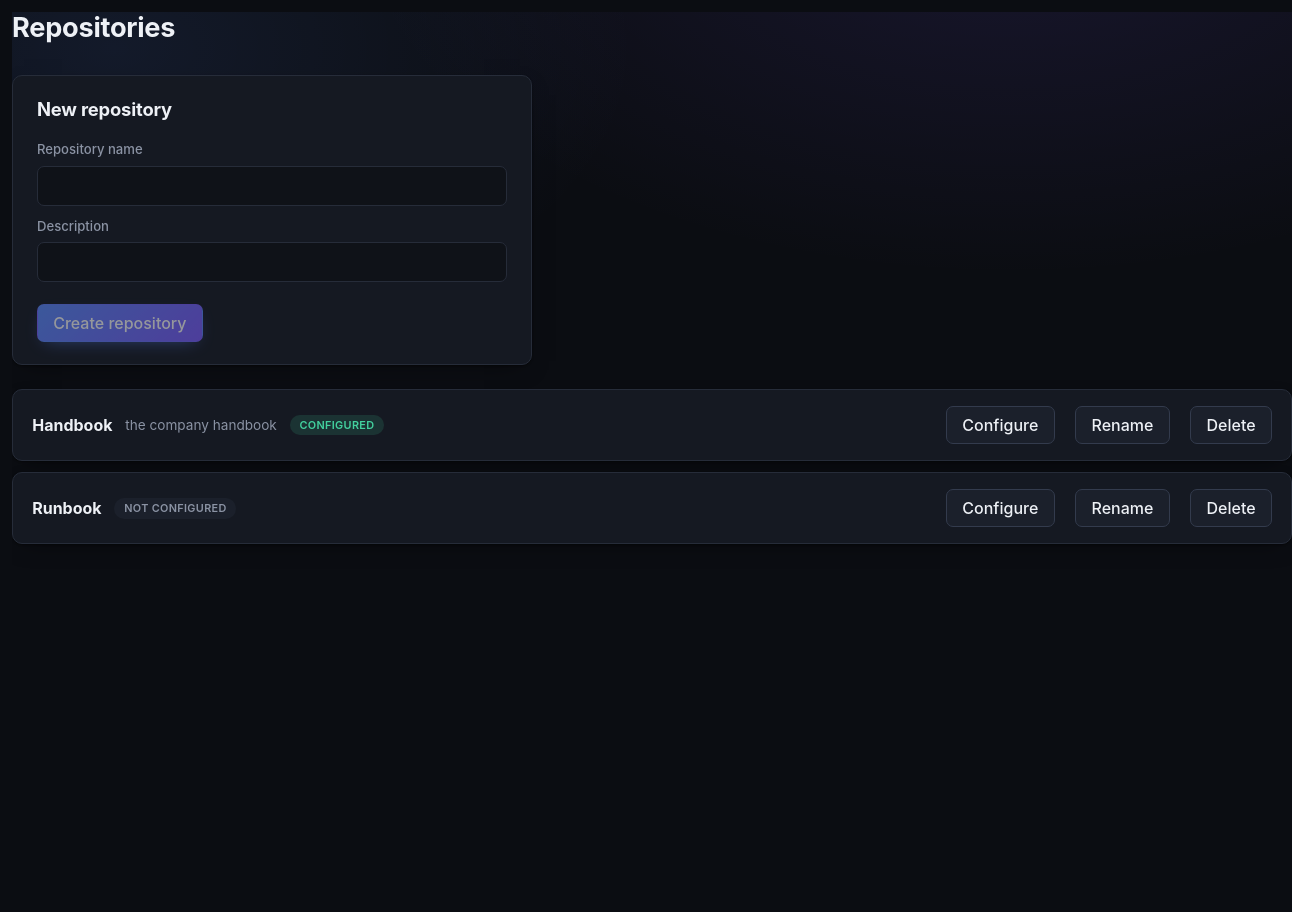
AdminRepositoriesPage — rename & delete › renames a repository
The width and height of the screenshot is (1292, 912).
Click the button "Rename" in the row of "Not configured". click: (1122, 508)
box: [1075, 489, 1170, 527]
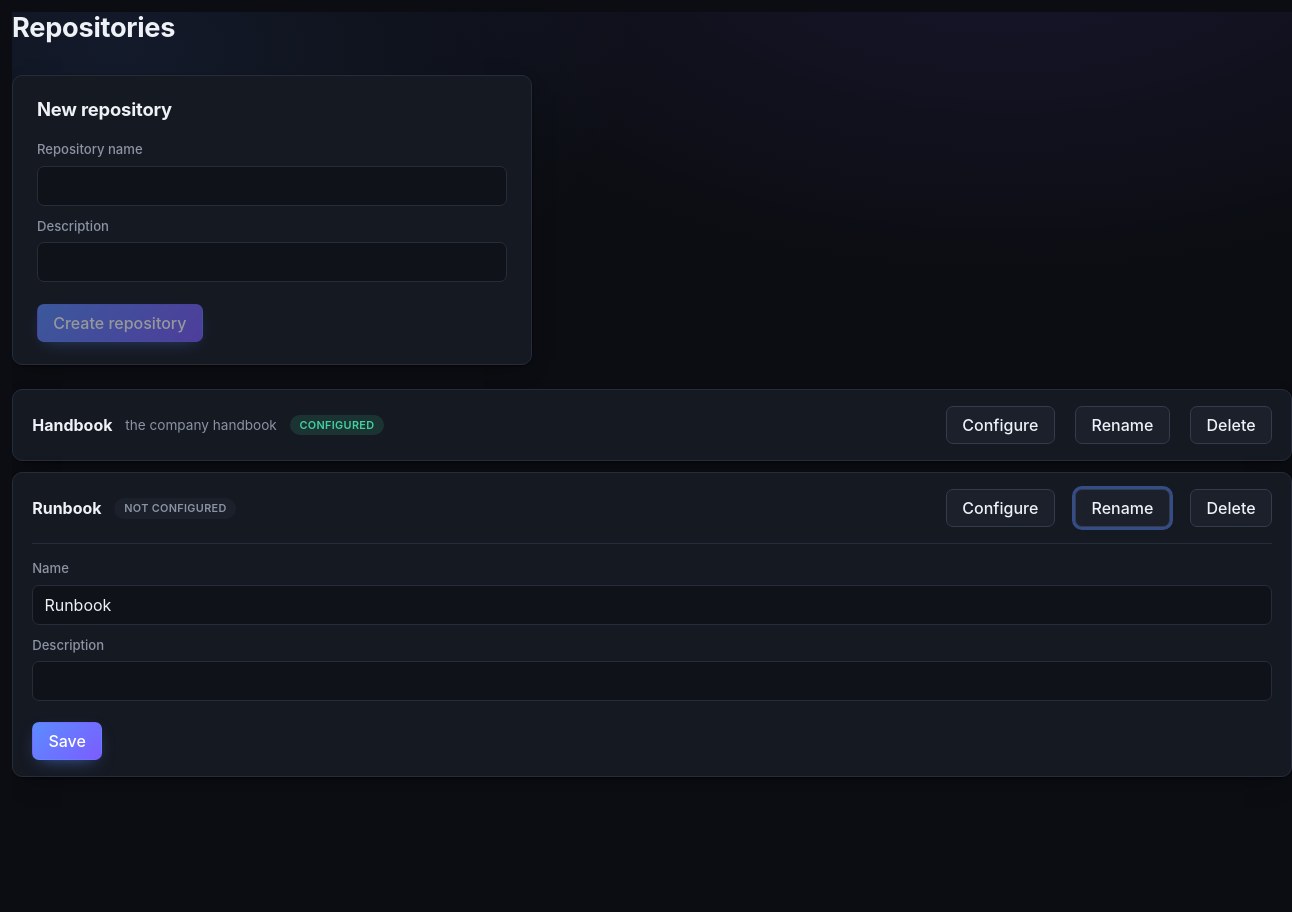
Replace the text in the field labelled "Name" with "Runbook v2". click: (652, 605)
box: [32, 585, 1272, 625]
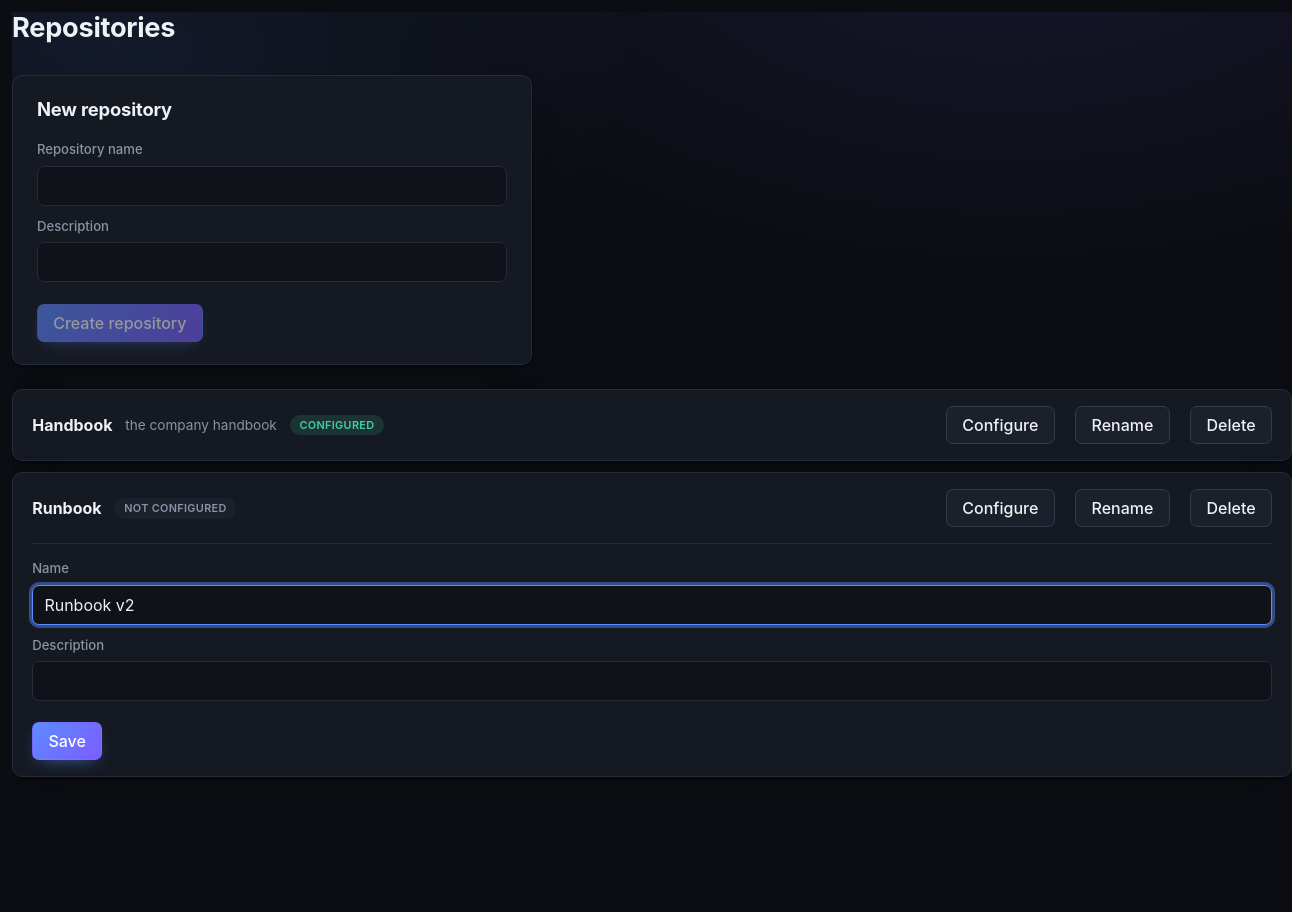
Type "ops runbook" into the field labelled "Description" below "Runbook". click: (652, 681)
box: [32, 661, 1272, 701]
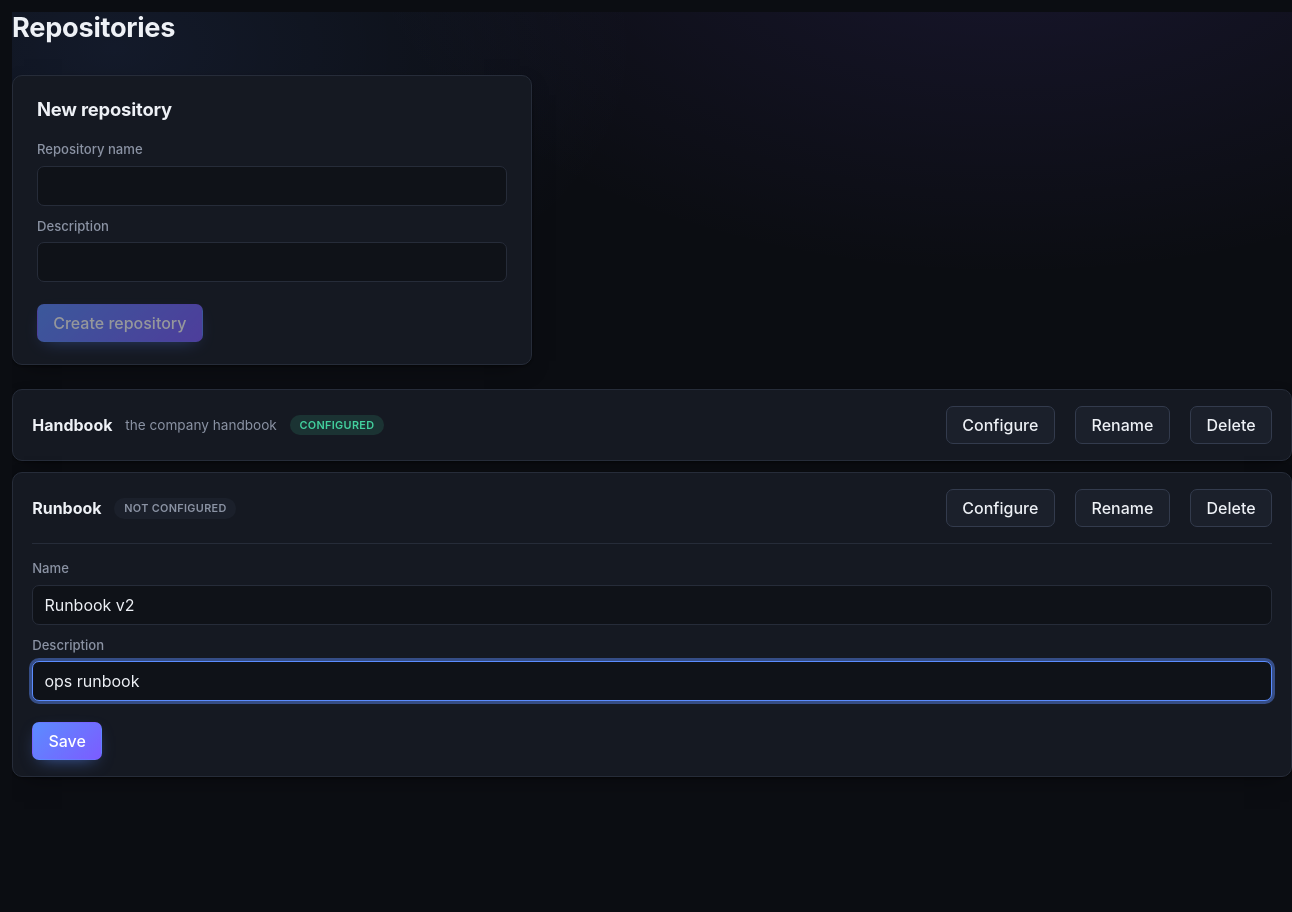
Click the button "Save". click: (67, 742)
box: [32, 722, 102, 760]
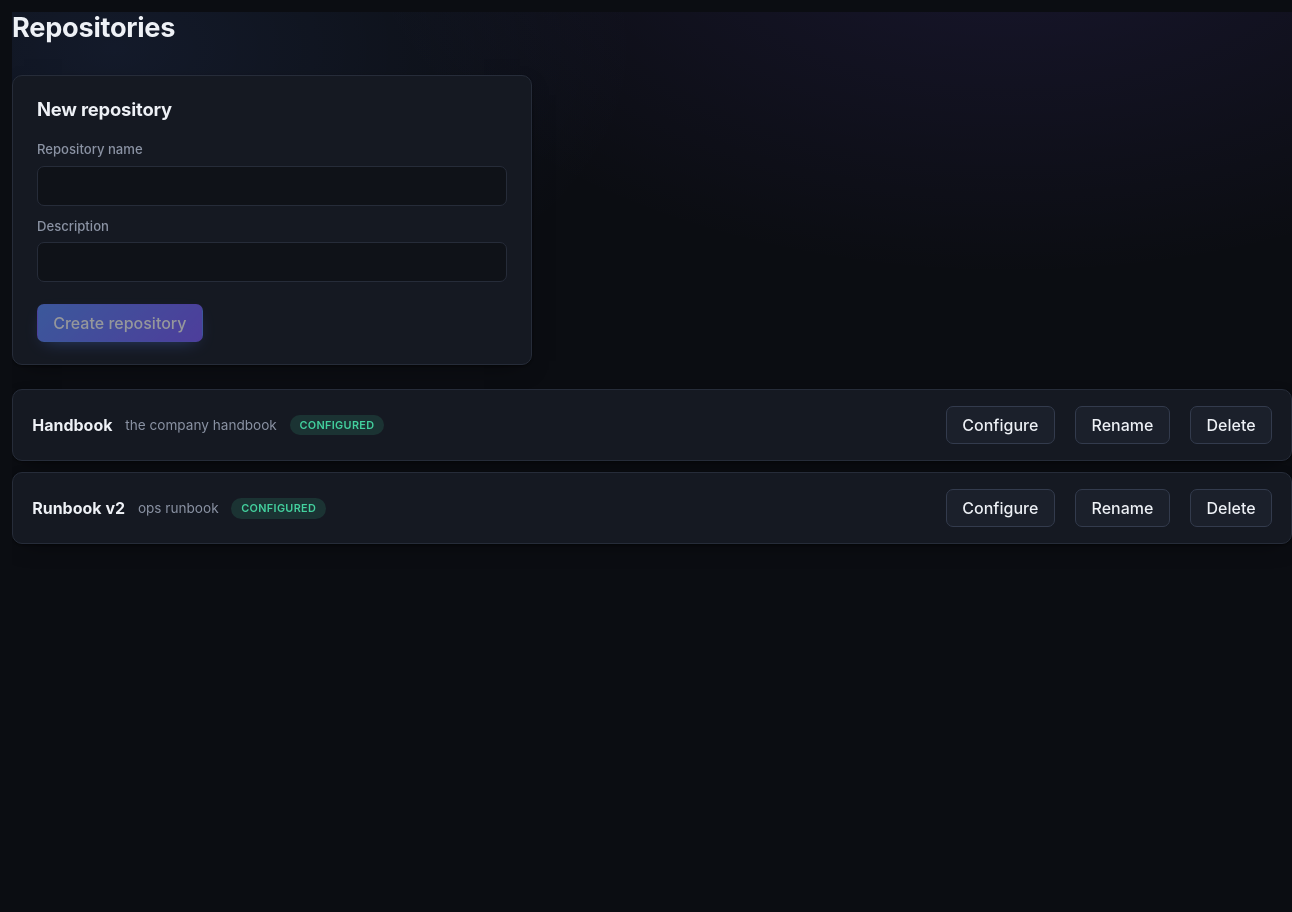
Expected: the text "Runbook v2" is shown, [32, 498, 125, 518]
